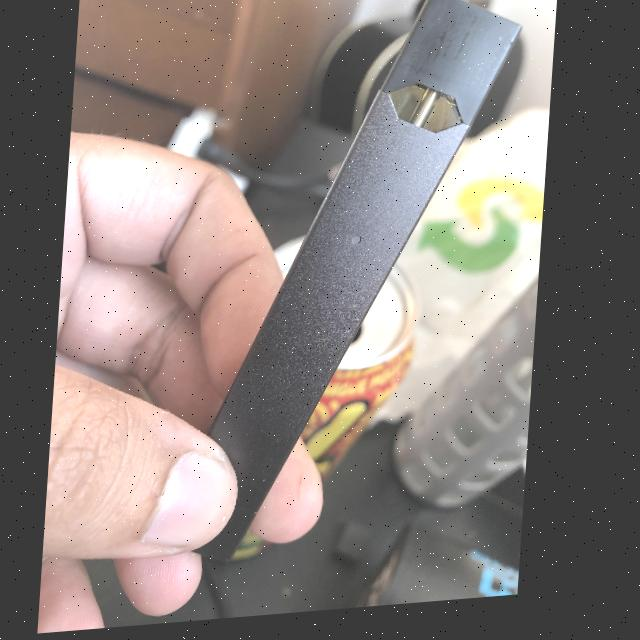vape: (168, 0, 523, 586)
